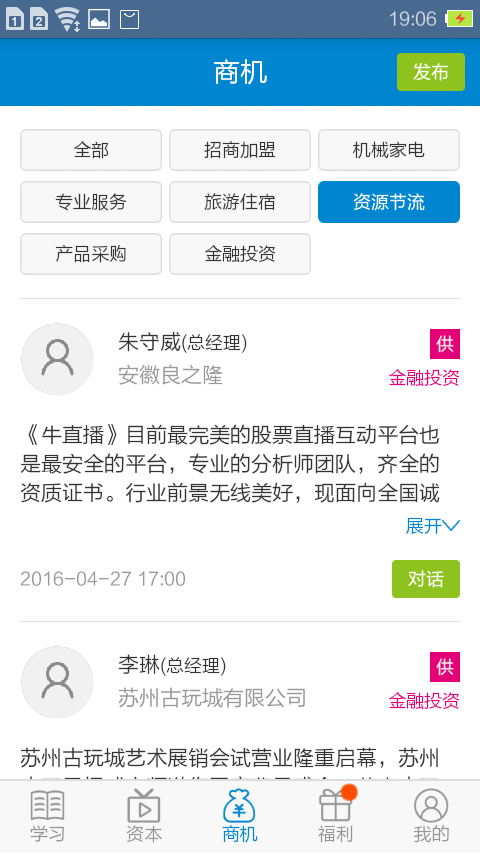button: (384, 557, 465, 604)
imgview: (9, 317, 101, 397)
textview: (13, 413, 456, 513), (113, 321, 284, 394)
